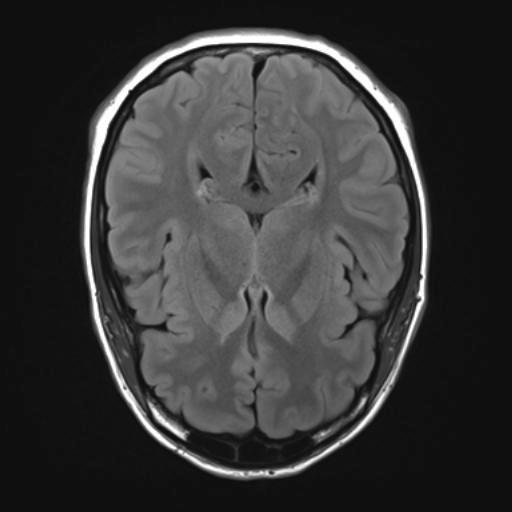Normal_Brain: (1, 1, 508, 512)
